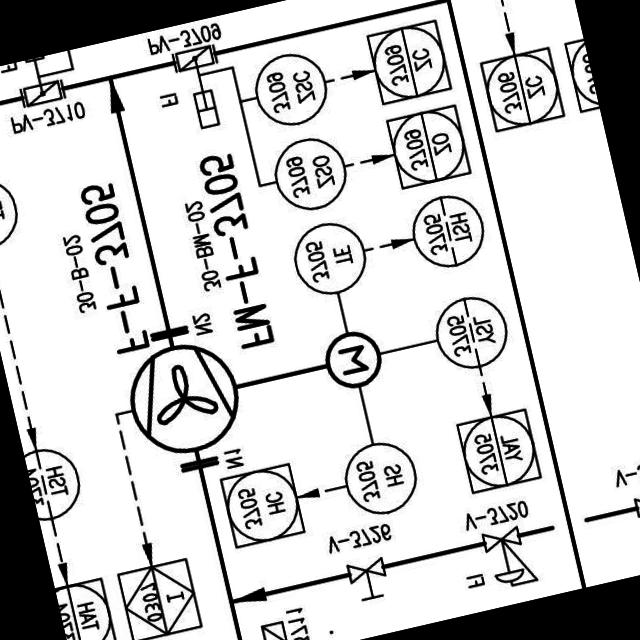BVWA: (165, 39, 236, 137)
F: (117, 334, 250, 464)
HV: (340, 556, 394, 610), (627, 487, 640, 546)
M: (317, 327, 388, 395)
PCV: (474, 524, 541, 600)
